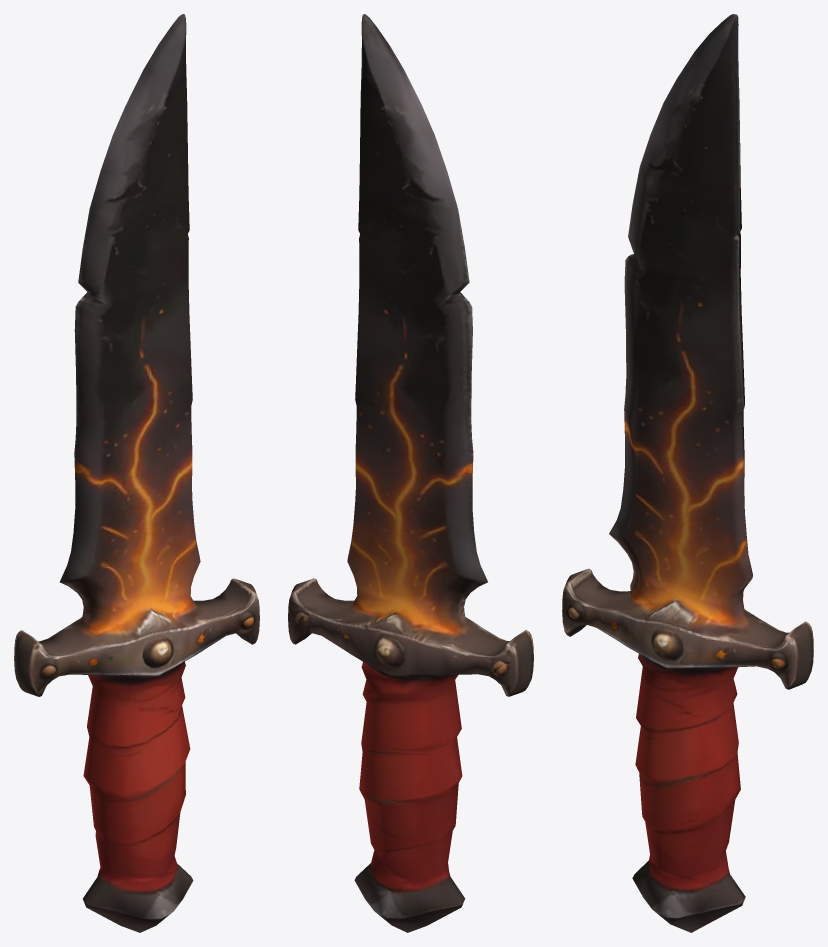
The model's file is dagger_epic_cinder_coal_ember.glb.
The picture shows the model from 3 angles, left to right: view 1: azimuth 30°, elevation 25°; view 2: azimuth 150°, elevation 25°; view 3: azimuth 330°, elevation 25°; orthographic projection. The views are drawn at different scales.
Visible parts, largest first — view 1: tripo_node_cfb1bbb1-3305-4a56-84df-1dfff6a7e612; view 2: tripo_node_cfb1bbb1-3305-4a56-84df-1dfff6a7e612; view 3: tripo_node_cfb1bbb1-3305-4a56-84df-1dfff6a7e612.
Boxes of the visible parts, x1,y1,x2,y2 form: tripo_node_cfb1bbb1-3305-4a56-84df-1dfff6a7e612: [14, 14, 259, 932]; tripo_node_cfb1bbb1-3305-4a56-84df-1dfff6a7e612: [288, 14, 533, 932]; tripo_node_cfb1bbb1-3305-4a56-84df-1dfff6a7e612: [562, 14, 813, 932].
Bounding box in the file's own units: 0.3533 × 1.28 × 0.1307.
1 material, 1 textured.
